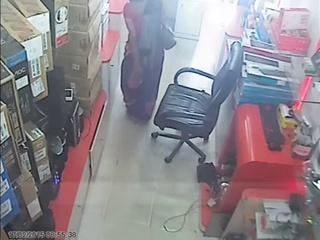Normal: (150, 41, 242, 164), (120, 0, 176, 121)
